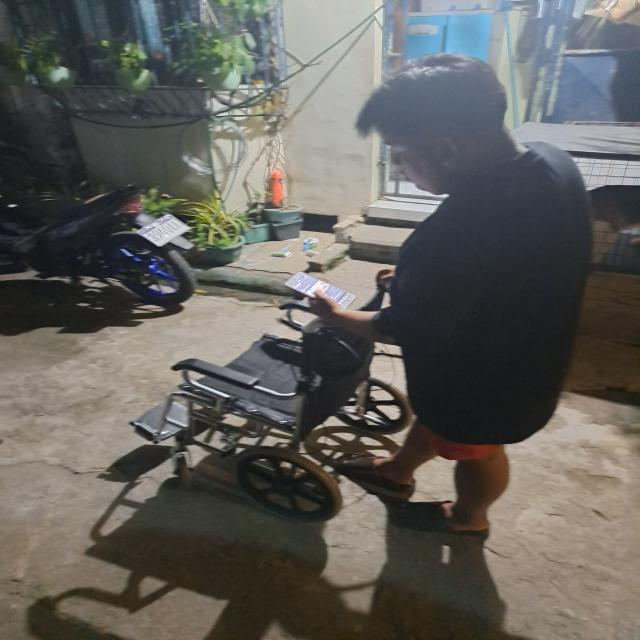wheelchairs: (123, 298, 424, 530)
